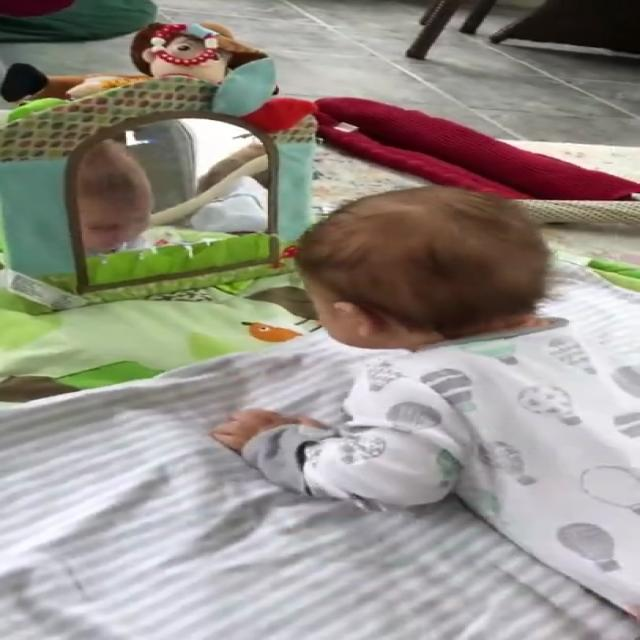baby: (198, 177, 640, 627)
